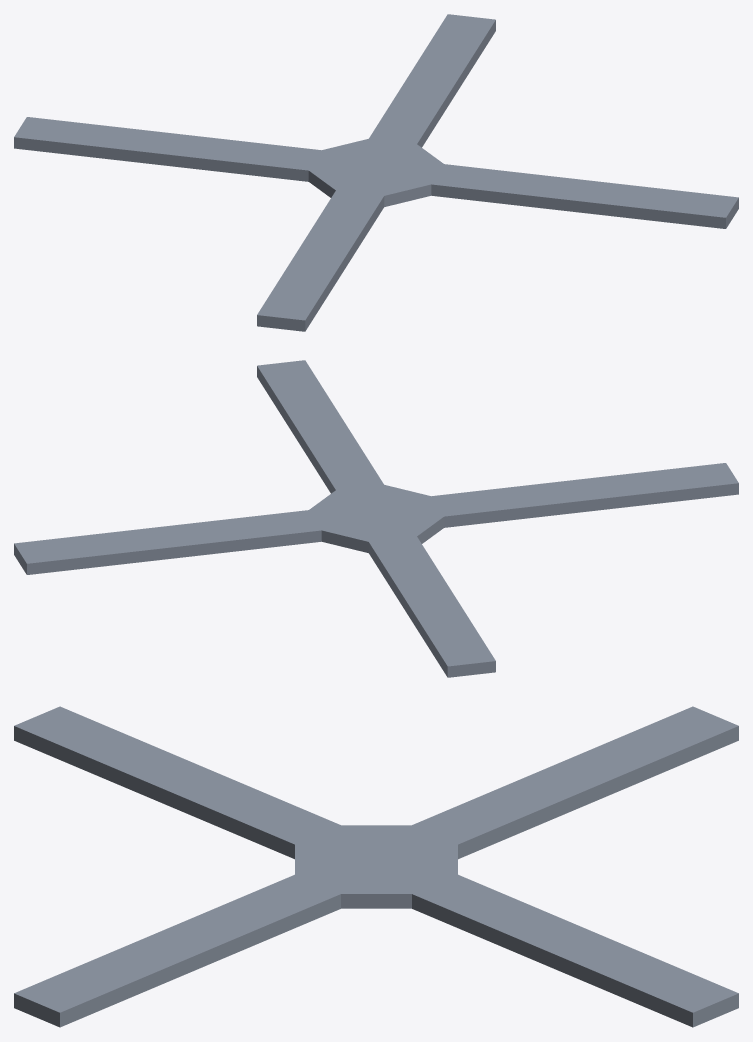
File: step-1-preview-3.glb
3 views of the same model, one above another, from view 1: azimuth 30°, elevation 25°; view 2: azimuth 150°, elevation 25°; view 3: azimuth 270°, elevation 25° (orthographic). The views are drawn at different scales.
Parts seen in each view (by area): view 1: preview_2, preview_1, preview_17, preview_10, preview_13, preview_11, preview_9; view 2: preview_2, preview_7, preview_8, preview_3, preview_15, preview_0, preview_6; view 3: preview_2, preview_3, preview_10, preview_13, preview_15, preview_14, preview_12, preview_16.
Part boxes in pixels (box(x1,y1,x2,y2)): preview_2: box(14, 14, 738, 320); preview_1: box(14, 137, 308, 181); preview_17: box(431, 184, 725, 228); preview_10: box(305, 196, 384, 330); preview_13: box(417, 20, 495, 147); preview_11: box(257, 315, 305, 331); preview_9: box(384, 184, 431, 206); preview_2: box(14, 360, 738, 666); preview_7: box(444, 483, 738, 527); preview_8: box(27, 530, 321, 574); preview_3: box(368, 542, 447, 676); preview_15: box(257, 366, 335, 493); preview_0: box(447, 661, 495, 677); preview_6: box(321, 530, 368, 552); preview_2: box(14, 706, 738, 1012); preview_3: box(458, 726, 738, 859); preview_10: box(14, 726, 294, 859); preview_13: box(412, 894, 692, 1027); preview_15: box(60, 894, 340, 1027); preview_14: box(341, 894, 411, 908); preview_12: box(693, 993, 738, 1027); preview_16: box(14, 993, 59, 1027).
Size of the model in its own units: 0.1782 by 0.004 by 0.1782.
